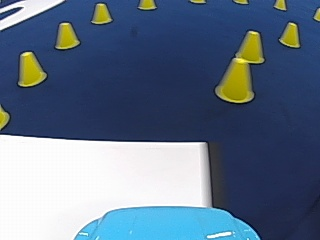cone: (215, 54, 255, 102), (16, 50, 46, 86), (235, 30, 265, 63), (54, 21, 79, 49), (279, 21, 300, 47), (90, 3, 111, 24), (1, 106, 10, 129), (138, 0, 155, 10), (273, 0, 286, 10)
